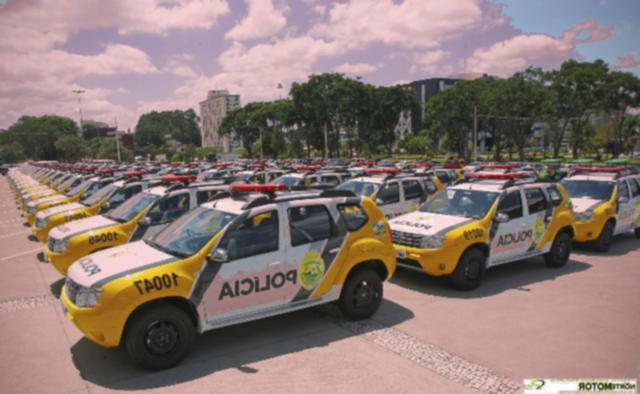police_car: (62, 182, 396, 366), (392, 172, 576, 291)
